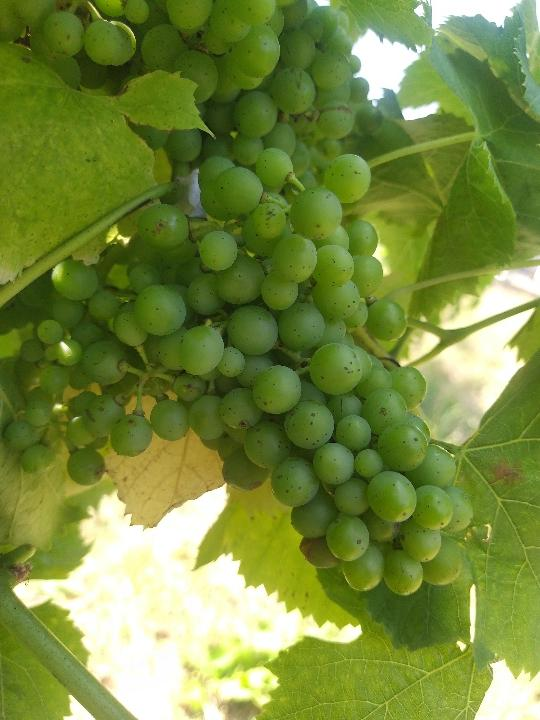grape: (7, 144, 475, 595)
